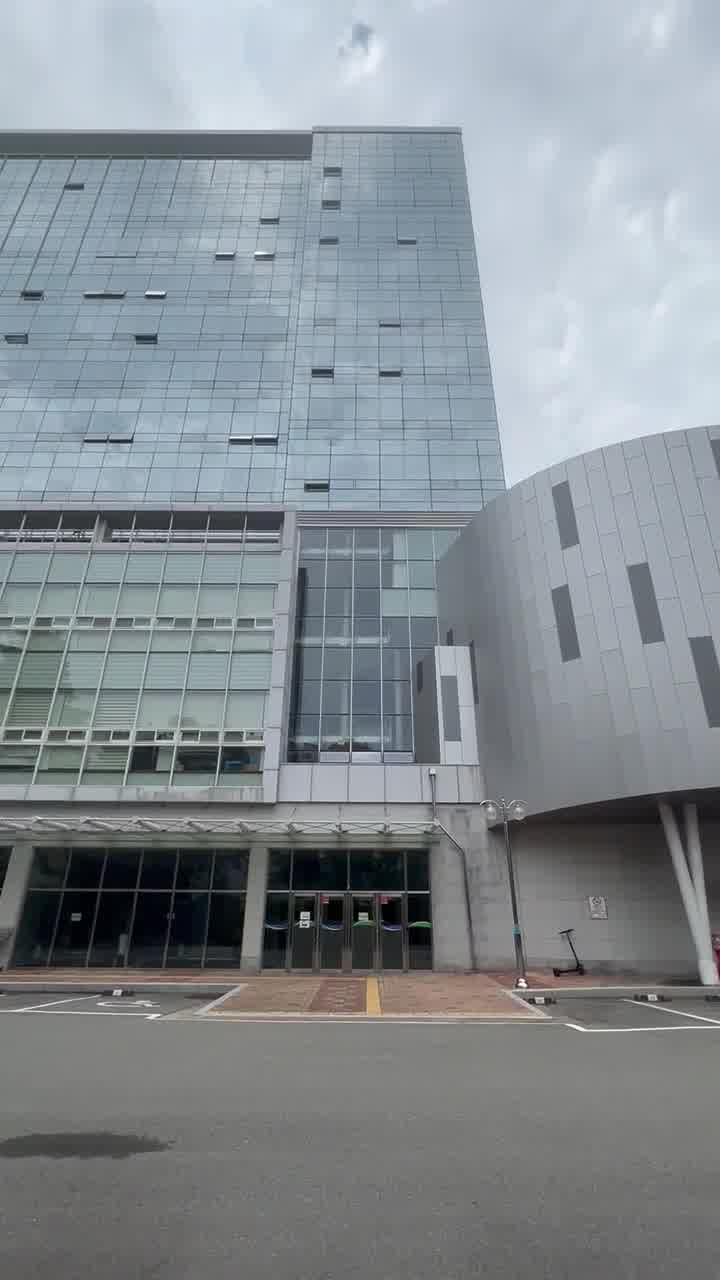building: (0, 48, 516, 964)
